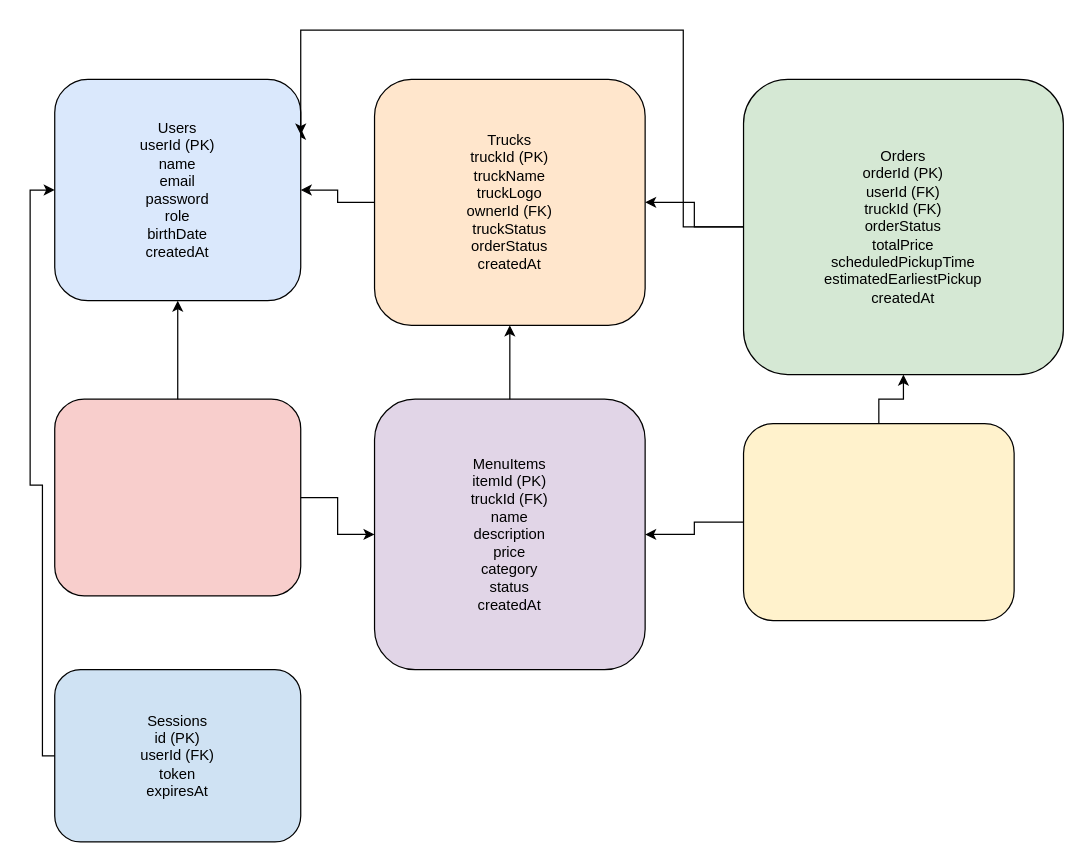
Some shapes in this 1085 by 863 pixel diagram are drawn without their labels. Here are the shapes that lost their labels. From the top down, the centre of each, then its label:
At point (177, 497): "Carts cartId (PK) userId (FK) itemId (FK) quantity price".
At point (878, 522): "OrderItems orderItemId (PK) orderId (FK) itemId (FK) quantity price".
